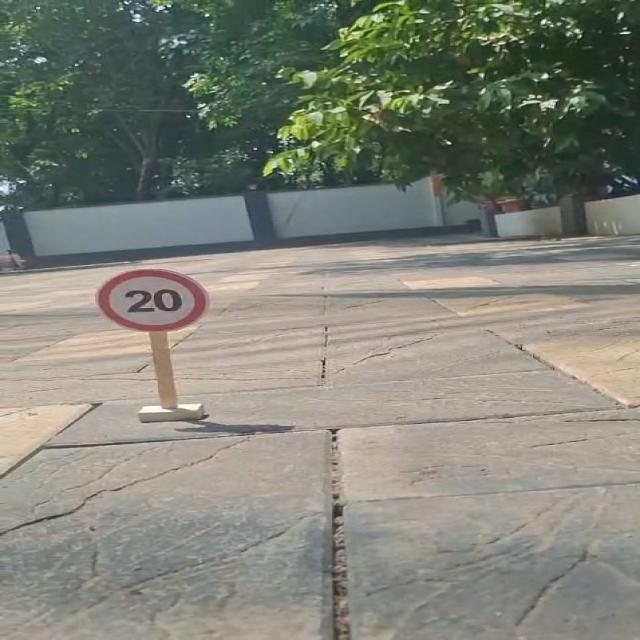Speed20: (90, 266, 214, 335)
